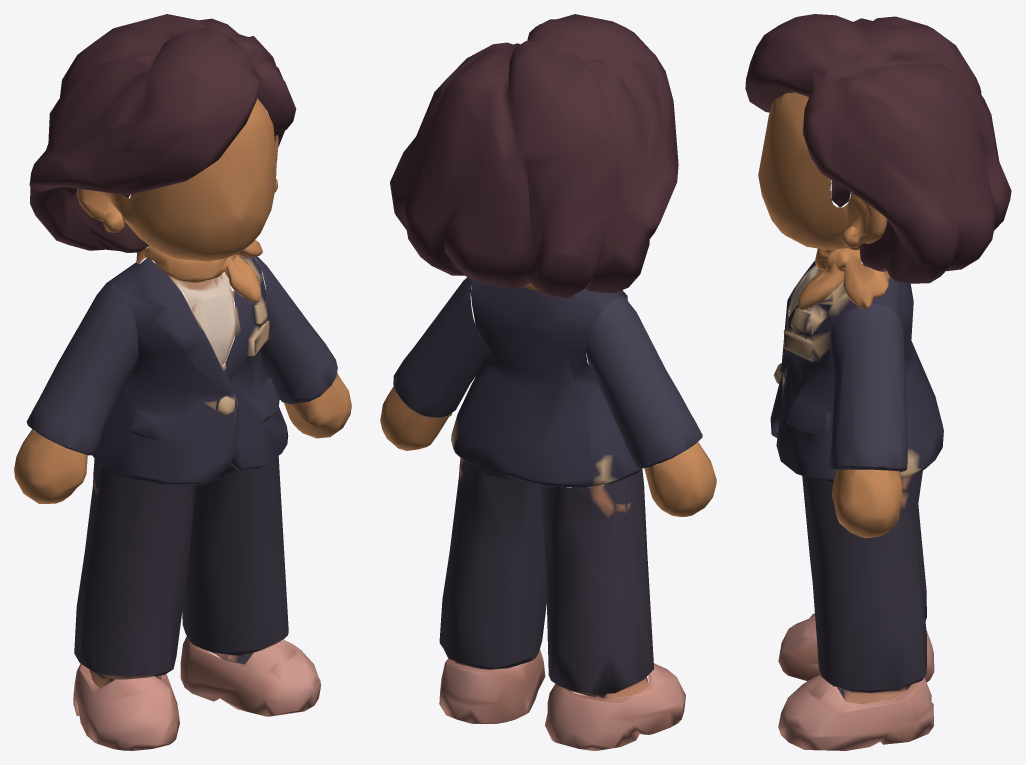
The picture shows the model from 3 angles, left to right: view 1: azimuth 30°, elevation 25°; view 2: azimuth 150°, elevation 25°; view 3: azimuth 270°, elevation 25°; orthographic projection.
Visible parts, largest first — view 1: bottom, hair, top, head, sleeve_r, shoe_l, shoe_r, sleeve_l, hand_r, hand_l; view 2: hair, bottom, top, sleeve_r, shoe_r, sleeve_l, shoe_l, hand_r, hand_l; view 3: hair, bottom, top, head, sleeve_l, shoe_l, hand_l, shoe_r.
Boxes of the visible parts, x1=… form: bottom: x1=74, y1=456, x2=288, y2=688; hair: x1=29, y1=14, x2=296, y2=252; top: x1=92, y1=256, x2=288, y2=484; head: x1=77, y1=98, x2=278, y2=303; sleeve_r: x1=26, y1=281, x2=138, y2=455; shoe_l: x1=180, y1=636, x2=321, y2=716; shoe_r: x1=73, y1=663, x2=179, y2=750; sleeve_l: x1=255, y1=256, x2=337, y2=404; hand_r: x1=14, y1=429, x2=87, y2=503; hand_l: x1=284, y1=373, x2=351, y2=438; hair: x1=390, y1=14, x2=678, y2=297; bottom: x1=439, y1=458, x2=653, y2=698; top: x1=451, y1=280, x2=641, y2=487; sleeve_r: x1=586, y1=296, x2=702, y2=468; shoe_r: x1=545, y1=663, x2=685, y2=750; sleeve_l: x1=393, y1=277, x2=484, y2=417; shoe_l: x1=439, y1=650, x2=545, y2=723; hand_r: x1=644, y1=442, x2=716, y2=516; hand_l: x1=380, y1=386, x2=451, y2=450; hair: x1=745, y1=14, x2=1011, y2=283; bottom: x1=802, y1=470, x2=926, y2=704; top: x1=770, y1=261, x2=943, y2=482; head: x1=758, y1=92, x2=891, y2=310; sleeve_l: x1=829, y1=304, x2=907, y2=472; shoe_l: x1=778, y1=674, x2=933, y2=750; hand_l: x1=831, y1=469, x2=902, y2=538; shoe_r: x1=778, y1=613, x2=934, y2=684.
Size of the model in its own units: 0.5155 by 1.03 by 0.3662.
